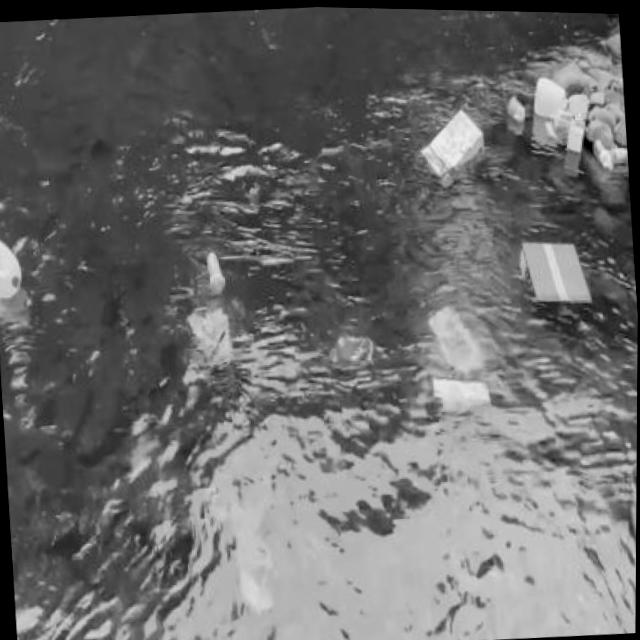Can-Metal: (328, 329, 380, 378)
Cardboard: (513, 229, 600, 322), (414, 98, 492, 191), (425, 367, 496, 421), (560, 102, 594, 158)
Cup: (586, 130, 629, 175)
Paper: (179, 299, 238, 368)
Plastic: (420, 290, 491, 380), (525, 64, 574, 122), (0, 228, 30, 309), (202, 244, 230, 295), (499, 85, 528, 123)
